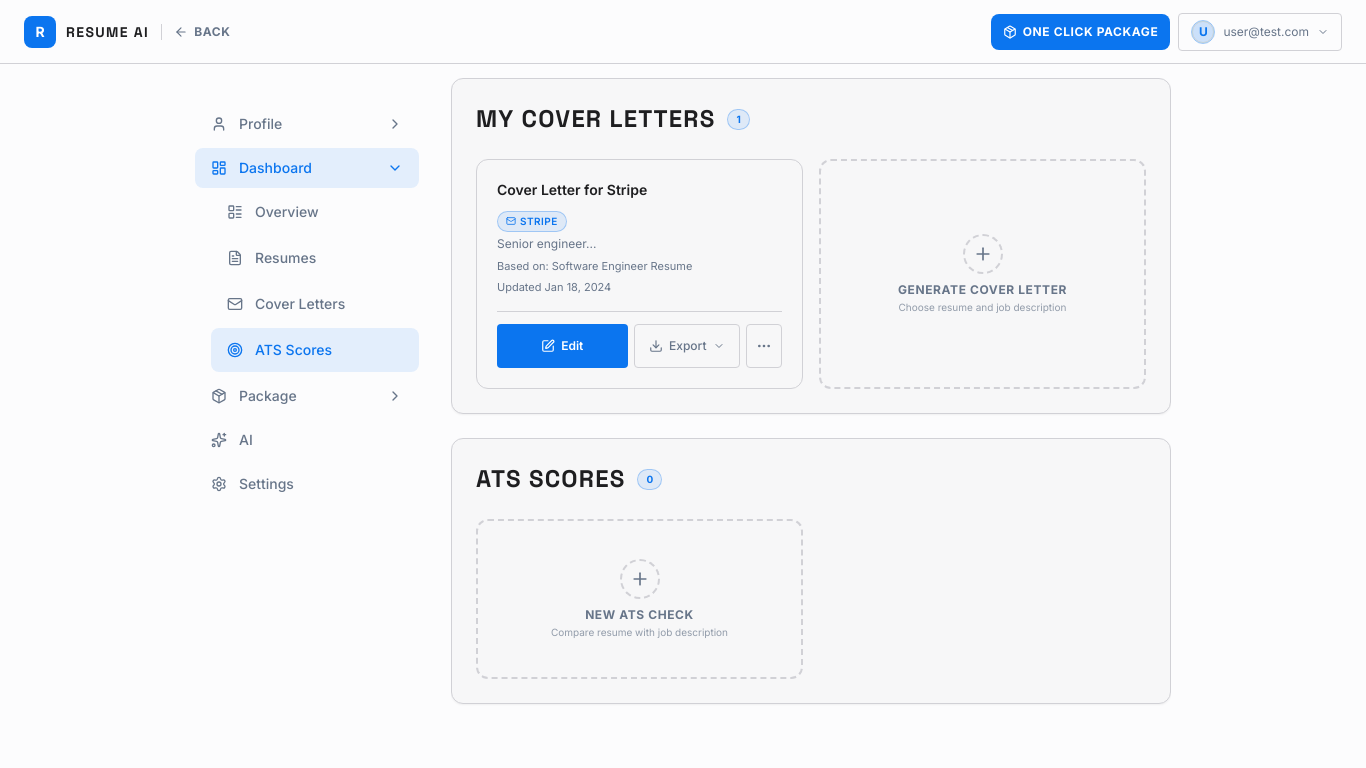
Test case: Dashboard — ATS check modal › shows an error message when the ATS check fails
(page scrolled)
Step 1. Click the text "New ATS Check" → (639,614), box [585,606,694,622]
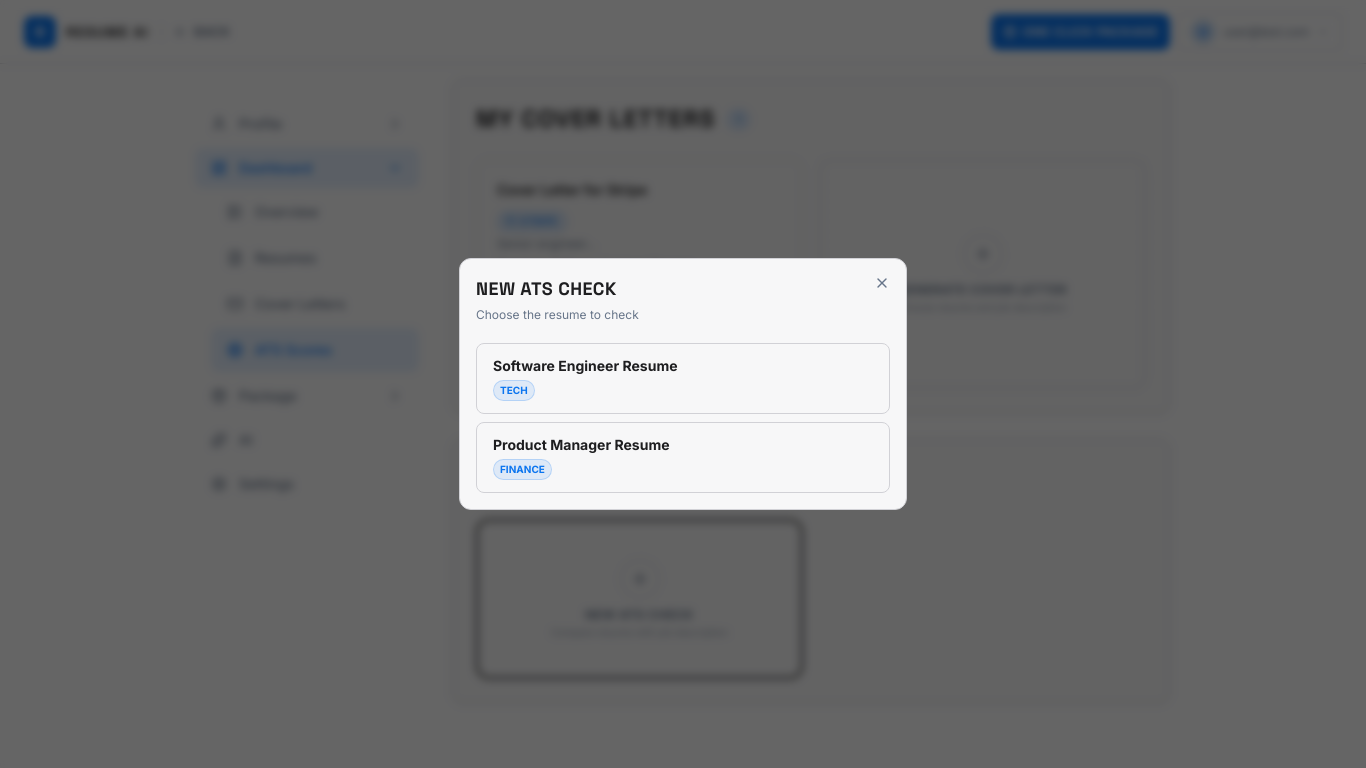
Expected: the heading "New ATS Check" is shown, [476,277,617,300]
Step 2. Click the button "Software Engineer Resume tech" → (585,366), box [476,343,890,414]
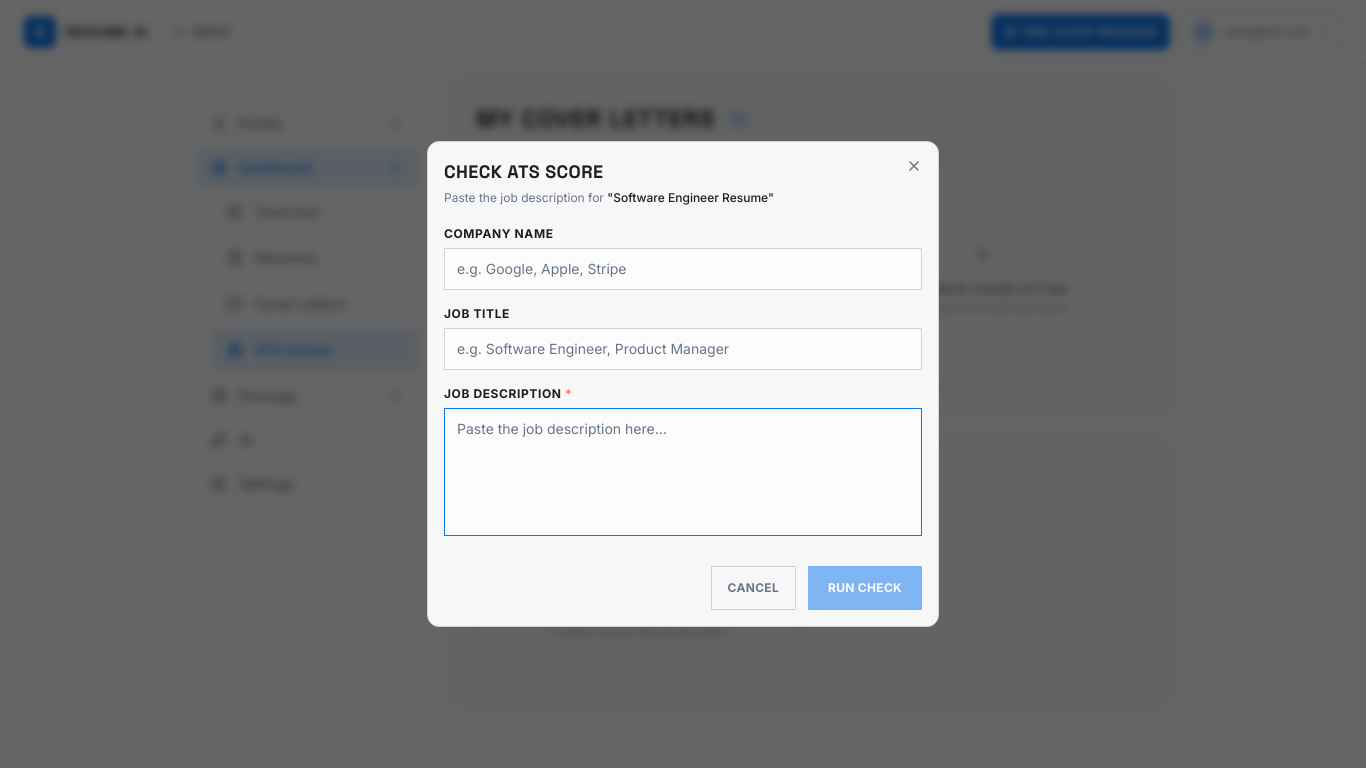
Expected: the text box with placeholder "Paste the job description here..." is shown
Step 3. Type "job description" into the text box with placeholder "Paste the job description here..." → (683,472), box [444,408,922,536]
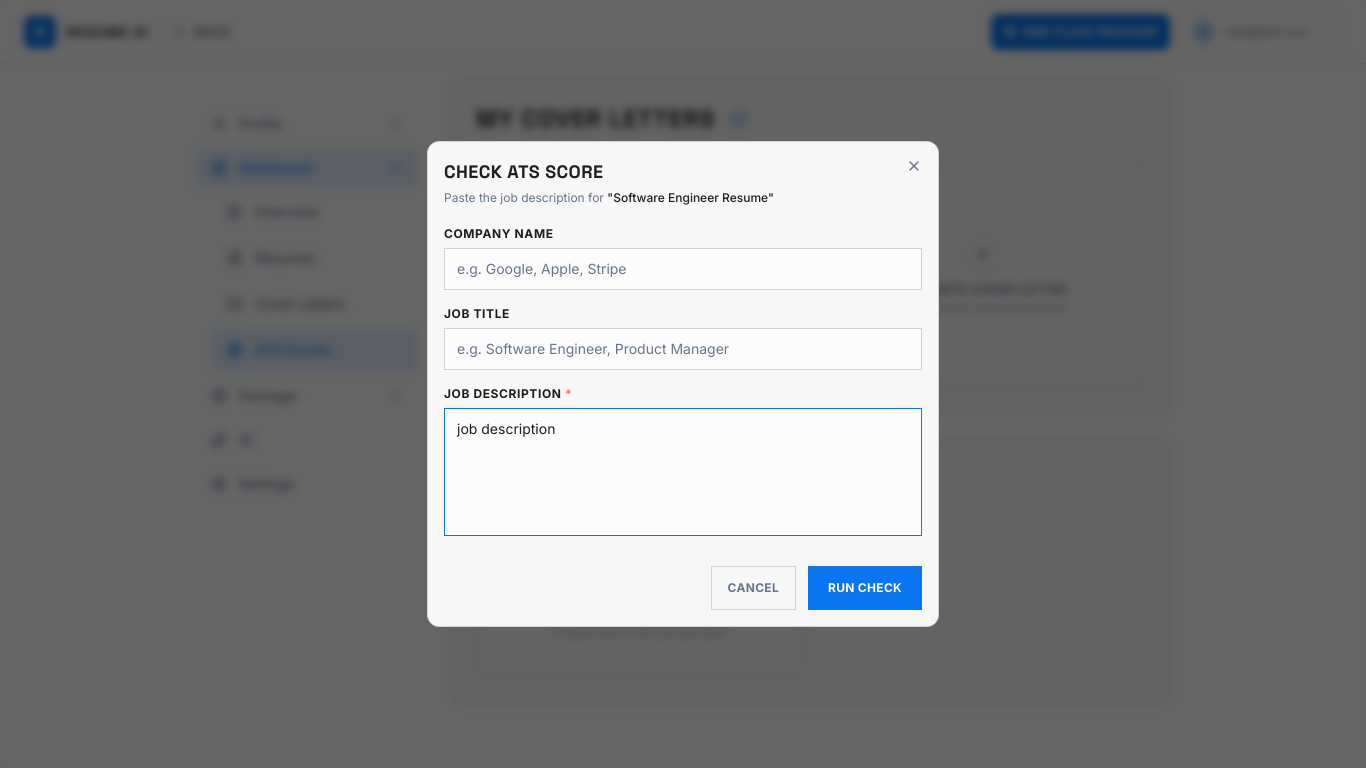
Step 4. Click the button "Run Check" → (865,588), box [808,566,922,610]
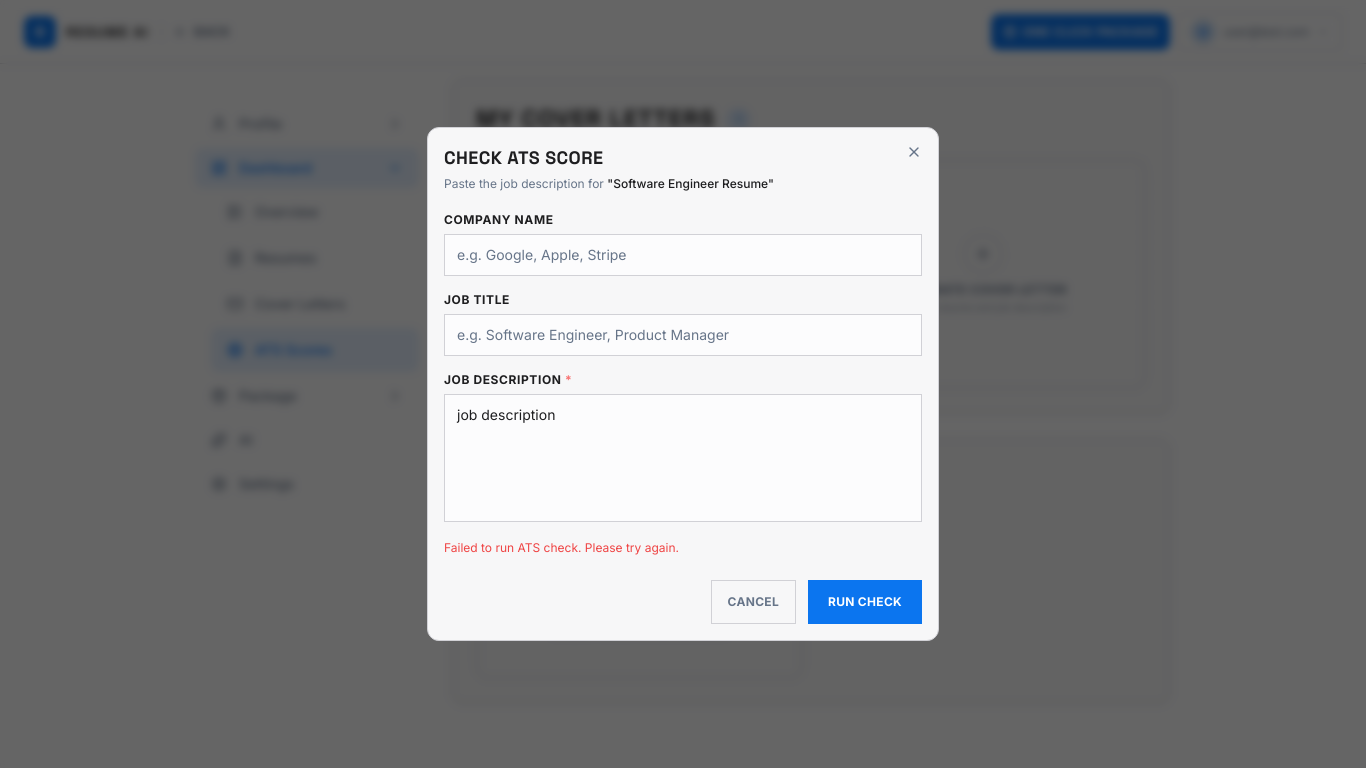
Expected: the text "Failed to run ATS check. Please try again." is shown, [444,540,679,555]
